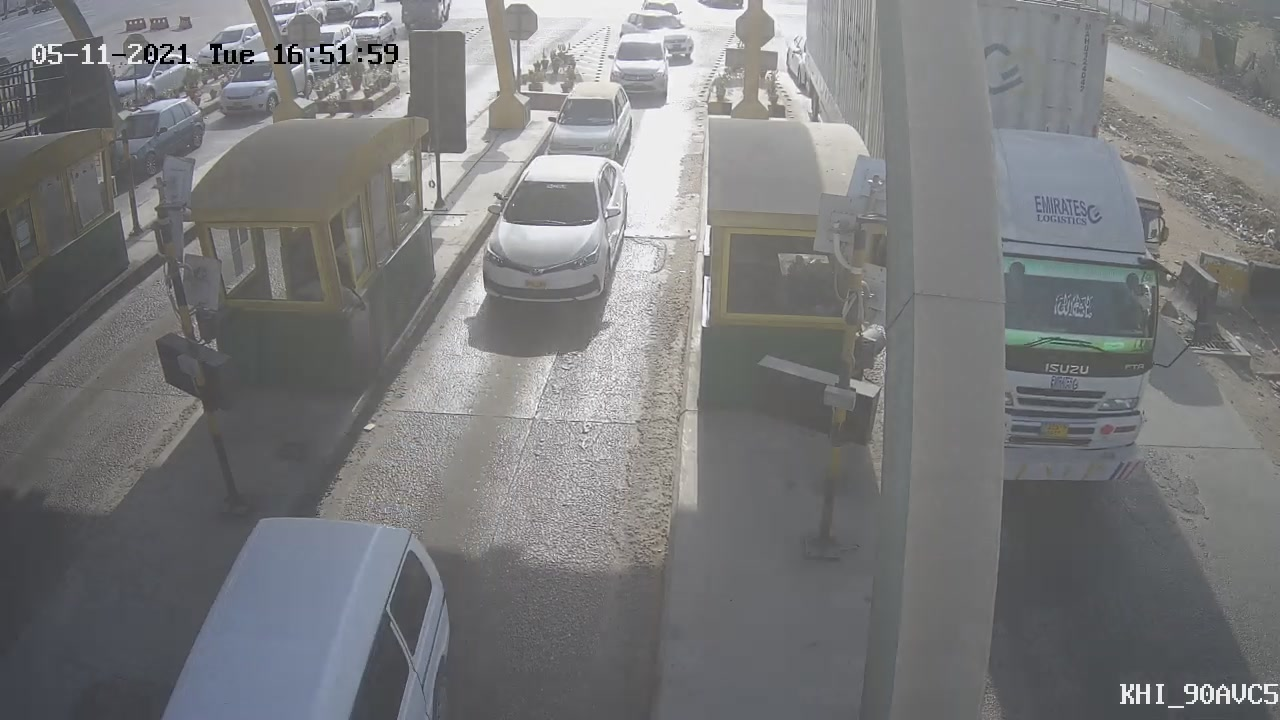F1: (461, 142, 648, 325), (534, 69, 652, 186)
